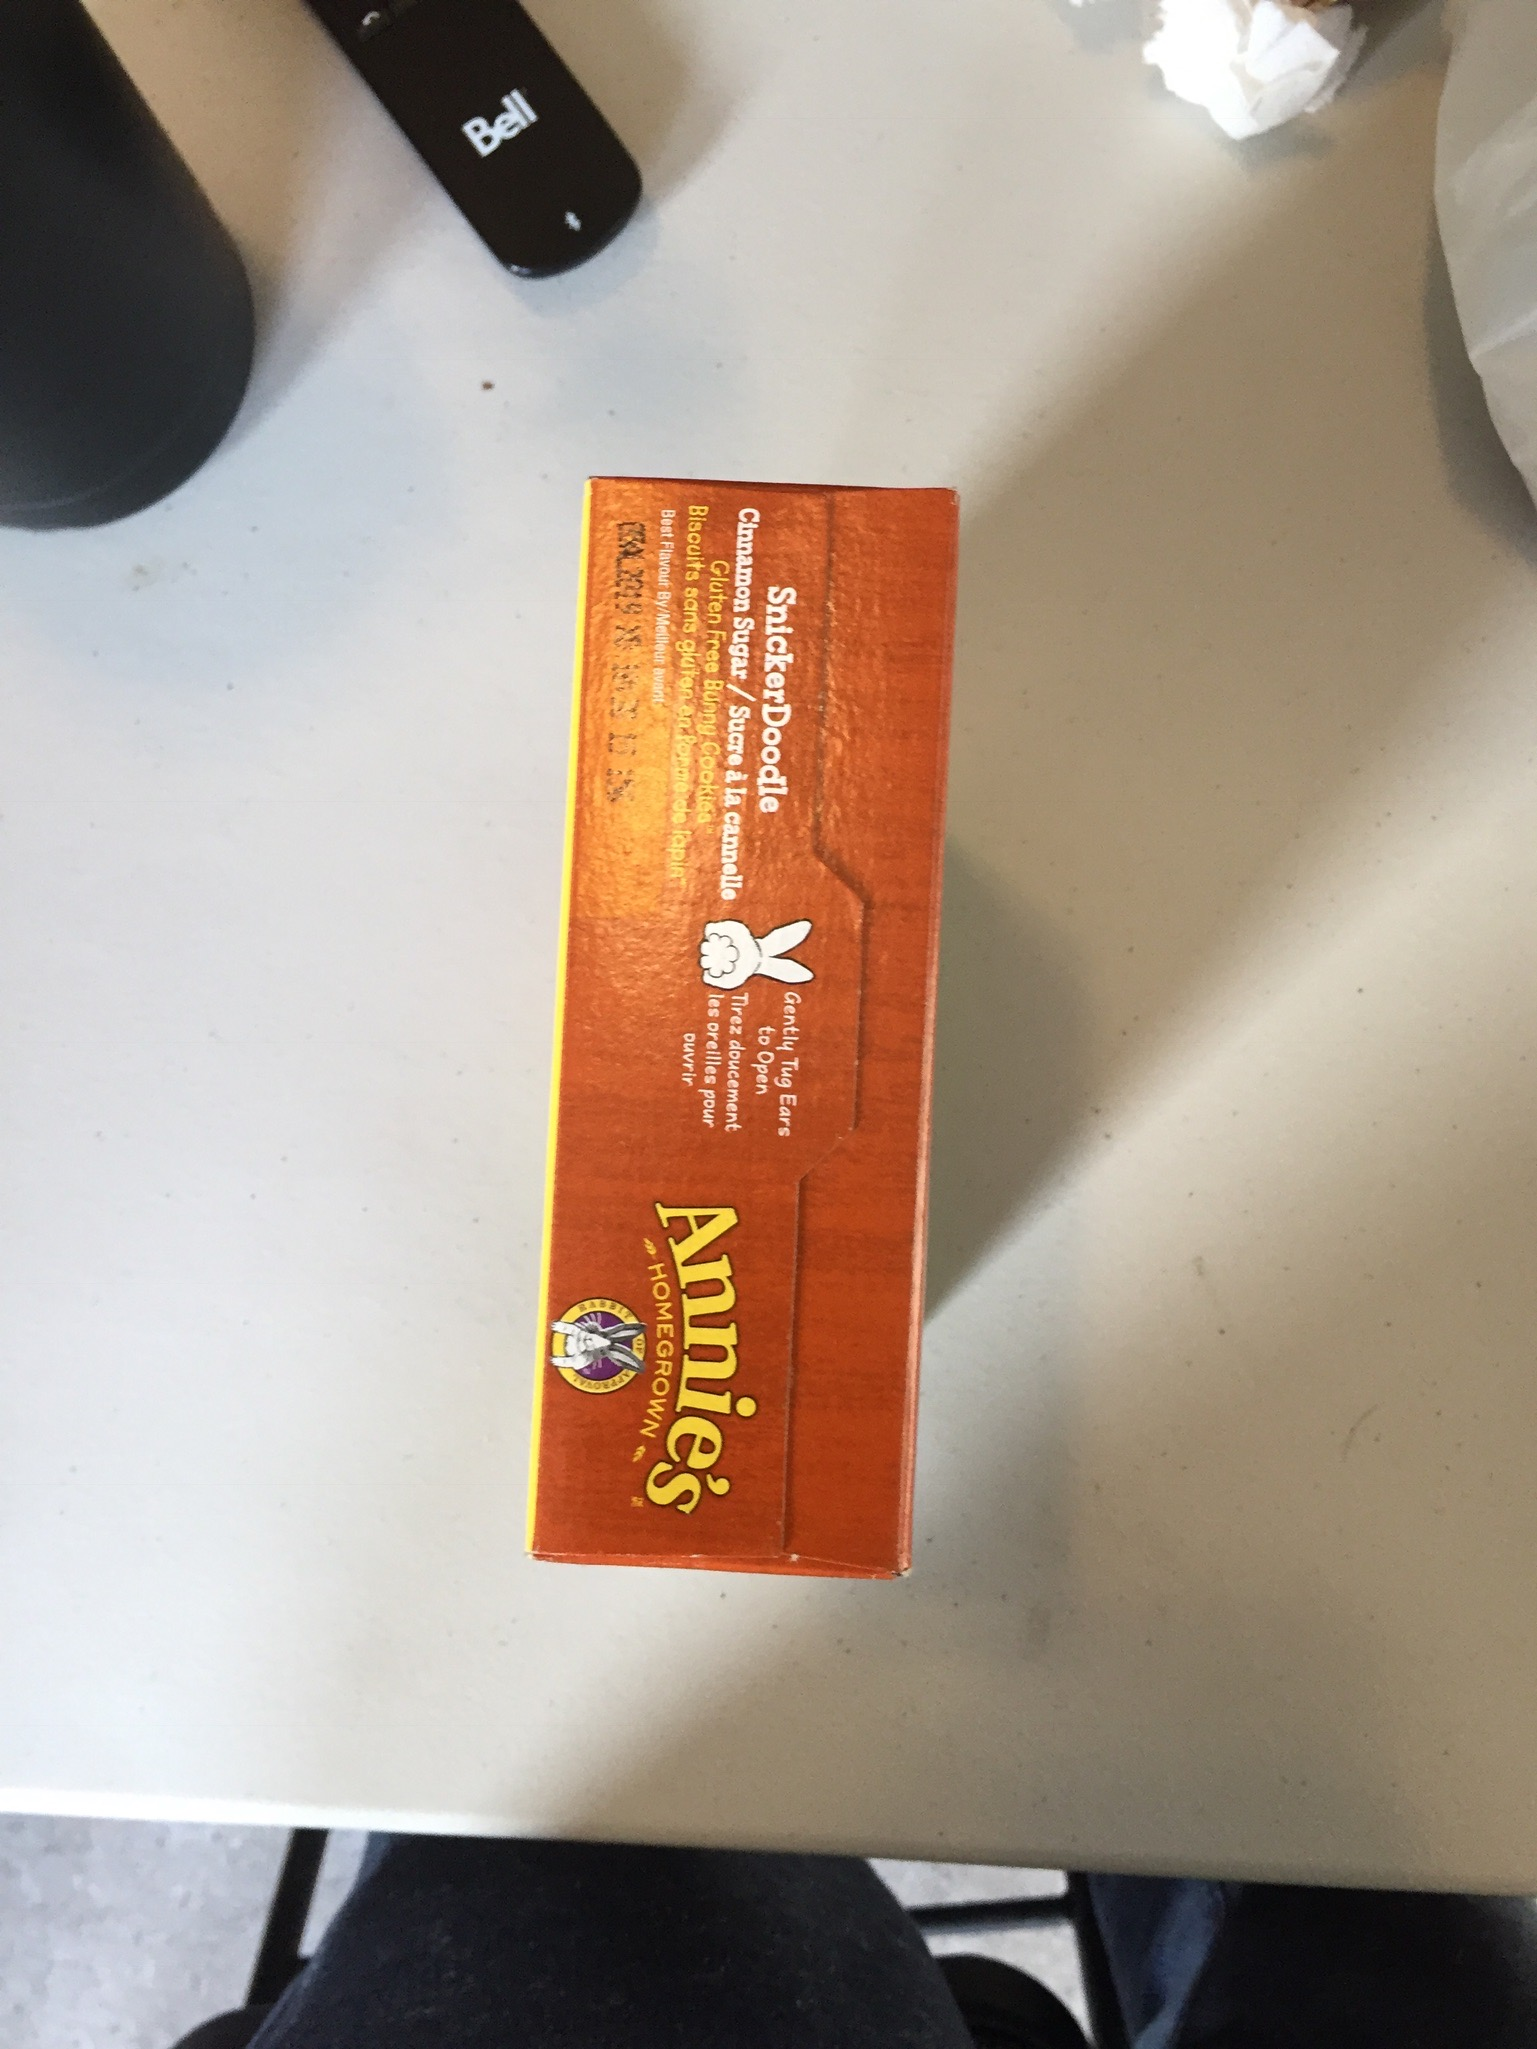annies_snickerdoodle_cinnamon_sugar: (593, 484, 888, 1560)
